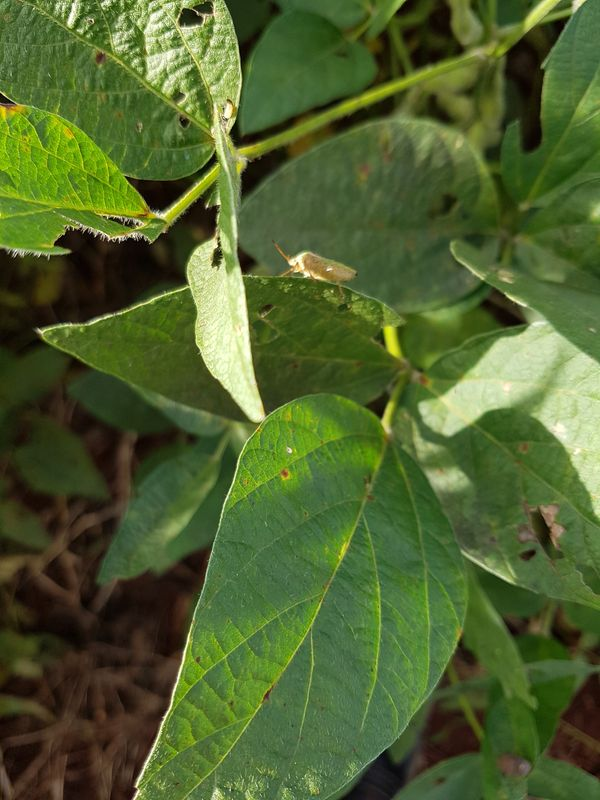Edessa_meditabunda: (265, 236, 365, 313)
